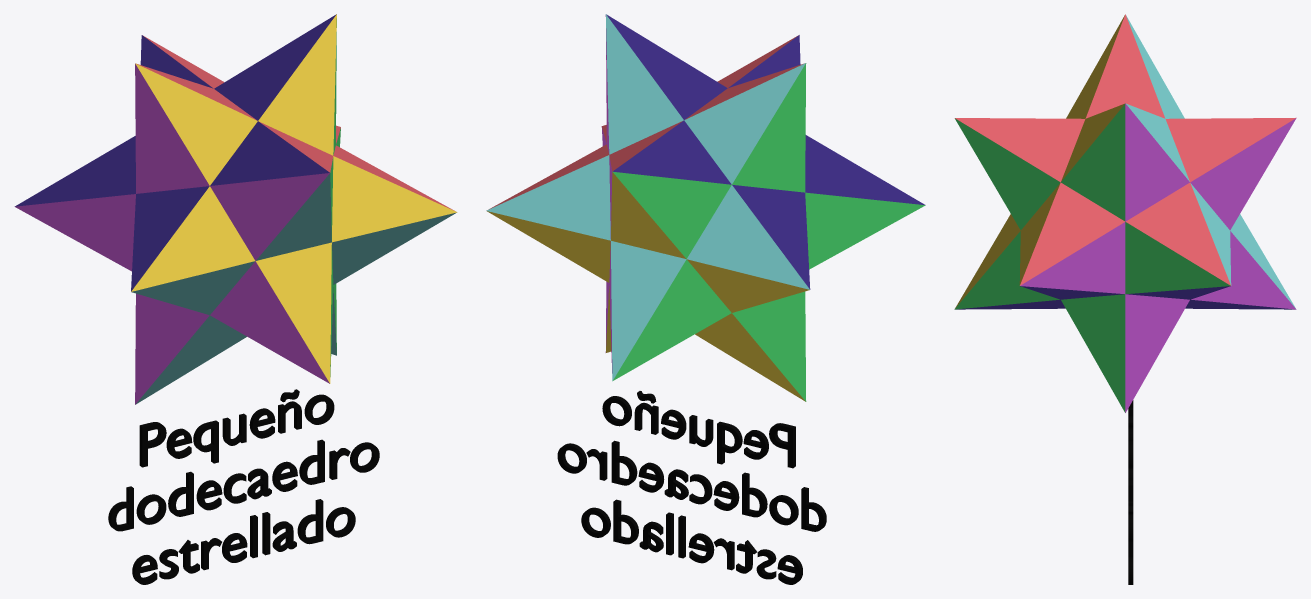
Rendered from pequeño_dodecaedro_estrellado.glb.
3 views of the same model, side by side, from view 1: azimuth 30°, elevation 25°; view 2: azimuth 150°, elevation 25°; view 3: azimuth 270°, elevation 25° (orthographic). The views are drawn at different scales.
Parts seen in each view (by area): view 1: Solid.017, Solid.022, Solid.015, Text.003, Solid.025, Solid.023, Solid.020; view 2: Solid, Solid.019, Solid.015, Text.003, Solid.018, Solid.023, Solid.021; view 3: Solid.023, Solid.020, Solid.021, Solid.017, Solid, Solid.016, Text.003.
Part boxes in pixels (x1,y1,x2,y2): Solid.017: (131, 14, 456, 383); Solid.022: (15, 63, 329, 404); Solid.015: (15, 14, 336, 291); Text.003: (108, 389, 379, 584); Solid.025: (131, 173, 456, 404); Solid.023: (136, 35, 455, 211); Solid.020: (330, 18, 340, 376); Solid: (486, 14, 809, 380); Solid.019: (612, 63, 925, 401); Solid.015: (606, 14, 925, 289); Text.003: (557, 391, 826, 584); Solid.018: (487, 172, 809, 401); Solid.023: (488, 35, 804, 209); Solid.021: (601, 15, 612, 373); Solid.023: (955, 14, 1296, 285); Solid.020: (954, 104, 1230, 412); Solid.021: (1020, 103, 1296, 412); Solid.017: (955, 15, 1124, 308); Solid: (1126, 15, 1295, 308); Solid.016: (955, 286, 1295, 309); Text.003: (1128, 400, 1133, 584).
Size of the model in its own units: 3.05 by 4.7 by 3.05.
